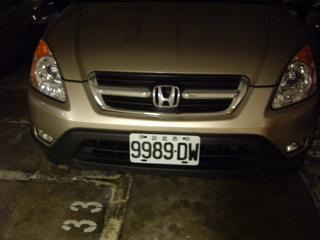plate: (127, 131, 203, 166)
